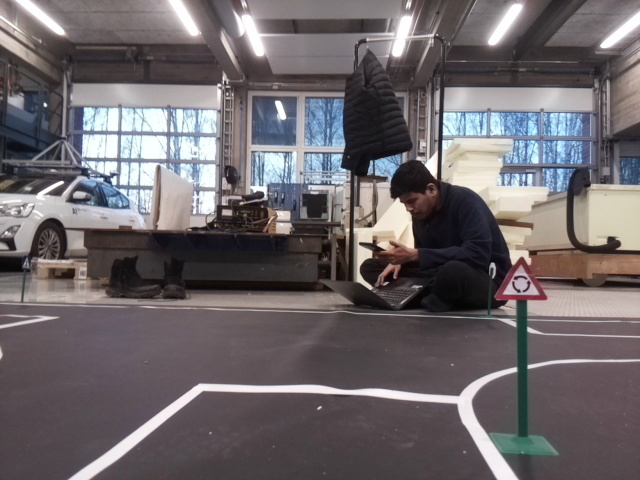Roundabout: (493, 255, 546, 299)
